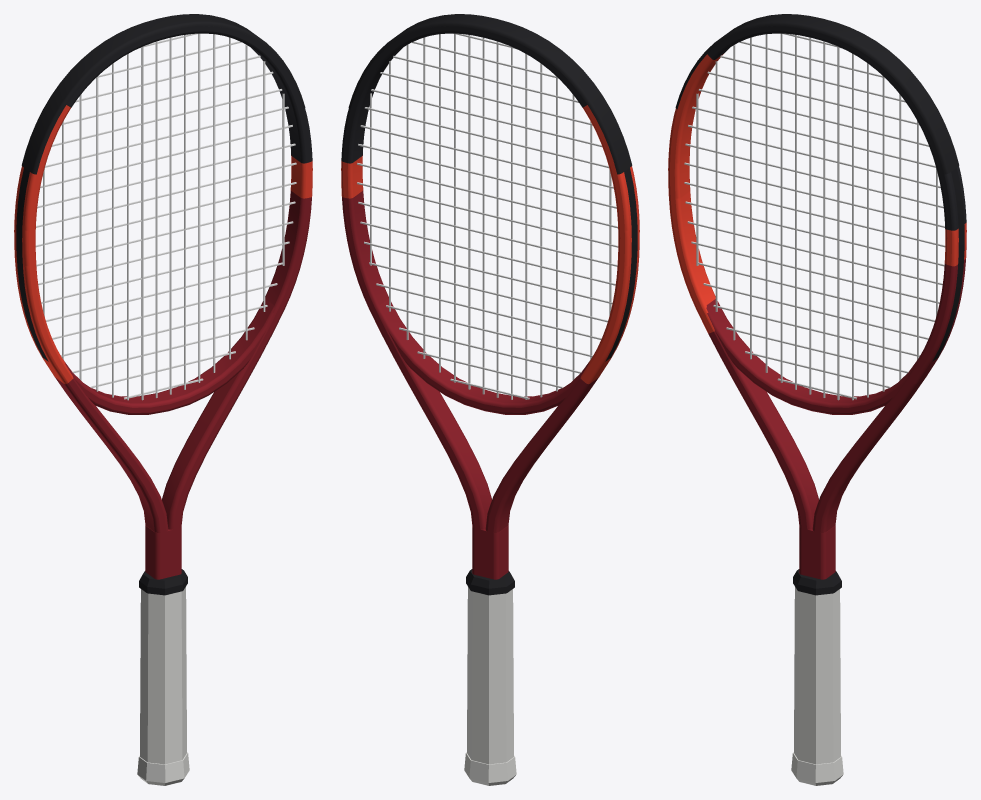
The model's file is dunlop-cx-200-os-2024.glb.
The picture shows the model from 3 angles, left to right: view 1: azimuth 30°, elevation 25°; view 2: azimuth 150°, elevation 25°; view 3: azimuth 330°, elevation 25°; orthographic projection.
Visible parts, largest first — view 1: frame, strings_mains, strings_crosses, grip, bumper, grommets, butt_cap, collar; view 2: frame, strings_mains, strings_crosses, grip, bumper, grommets, butt_cap, collar; view 3: frame, strings_mains, strings_crosses, grip, bumper, grommets, butt_cap, collar.
Boxes of the visible parts, bbox=[...] form: frame: bbox=[14, 26, 312, 579]; strings_mains: bbox=[43, 33, 284, 400]; strings_crosses: bbox=[35, 33, 296, 399]; grip: bbox=[140, 587, 186, 764]; bumper: bbox=[21, 14, 305, 174]; grommets: bbox=[16, 168, 48, 361]; butt_cap: bbox=[137, 752, 189, 785]; collar: bbox=[139, 569, 187, 595]; frame: bbox=[341, 26, 639, 579]; strings_mains: bbox=[370, 34, 611, 399]; strings_crosses: bbox=[357, 33, 618, 399]; grip: bbox=[467, 587, 513, 764]; bumper: bbox=[348, 14, 632, 174]; grommets: bbox=[605, 168, 637, 361]; butt_cap: bbox=[464, 752, 516, 785]; collar: bbox=[466, 569, 514, 595]; frame: bbox=[668, 26, 966, 579]; strings_mains: bbox=[696, 33, 937, 400]; strings_crosses: bbox=[684, 33, 945, 399]; grip: bbox=[794, 587, 840, 764]; bumper: bbox=[675, 14, 959, 174]; grommets: bbox=[932, 168, 964, 361]; butt_cap: bbox=[791, 752, 843, 785]; collar: bbox=[793, 569, 841, 595].
Size of the model in its own units: 0.2747 by 0.6861 by 0.0377.
